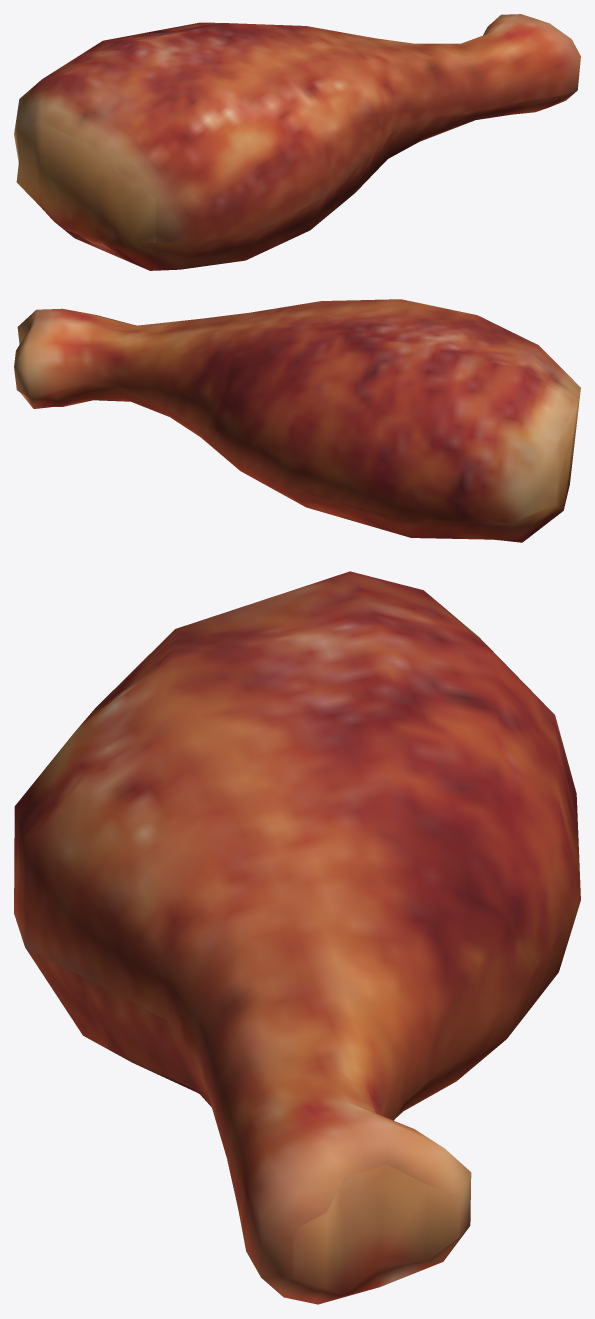
The model's file is chicken_leg.gltf.
3 views of the same model, one above another, from view 1: azimuth 30°, elevation 25°; view 2: azimuth 150°, elevation 25°; view 3: azimuth 270°, elevation 25° (orthographic). The views are drawn at different scales.
Visible parts, largest first — view 1: Chicken_leg; view 2: Chicken_leg; view 3: Chicken_leg.
Part boxes in pixels (bbox=[...]): Chicken_leg: bbox=[14, 14, 580, 270]; Chicken_leg: bbox=[14, 299, 580, 542]; Chicken_leg: bbox=[14, 571, 580, 1304].
Size of the model in its own units: 27.88 by 9.05 by 12.8.
Materials: 1 (1 with a texture image).
